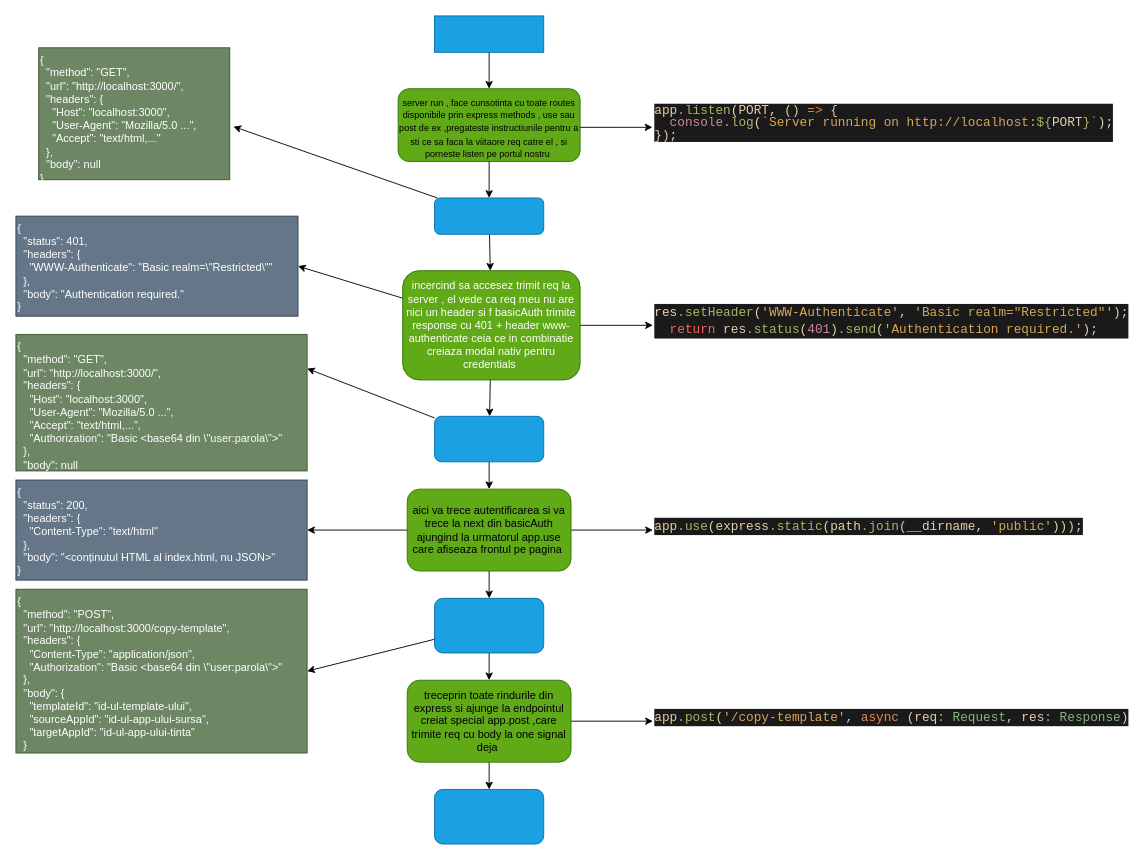
This 1145x860 diagram has some shape labels left out. Each missing label, with the centre of its shape:
inseram datele in formular si apasam send: the point at 489,625
inseram datele si retrimitem alt req cu date pentru auth: the point at 489,438
localhost:PORT: the point at 489,215
npm start: the point at 489,33
send the result to front succes or err: the point at 489,816
